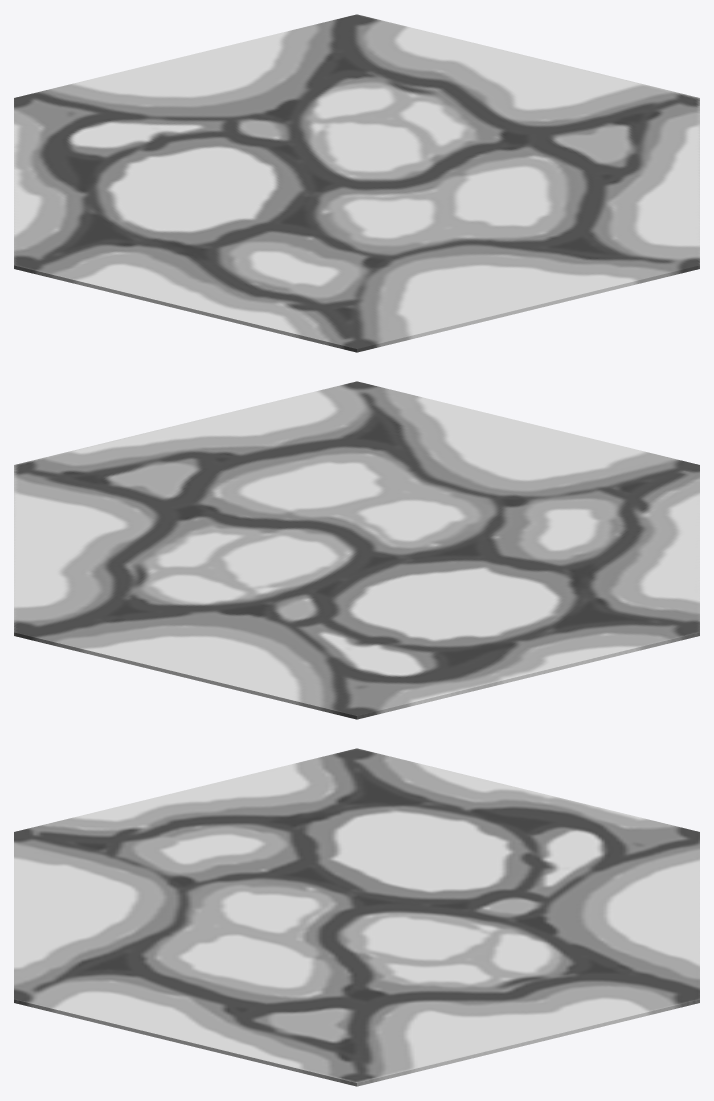
File: heksa_teksturoitu.FBX
3 views of the same model, one above another, from view 1: azimuth 30°, elevation 25°; view 2: azimuth 150°, elevation 25°; view 3: azimuth 270°, elevation 25° (orthographic).
Parts seen in each view (by area): view 1: heksa_V0_R0; view 2: heksa_V0_R0; view 3: heksa_V0_R0.
Part boxes in pixels (x1=…): heksa_V0_R0: x1=14, y1=14, x2=699, y2=352; heksa_V0_R0: x1=14, y1=381, x2=699, y2=719; heksa_V0_R0: x1=14, y1=748, x2=699, y2=1086.
Bounding box in the file's own units: 200 × 1 × 173.
